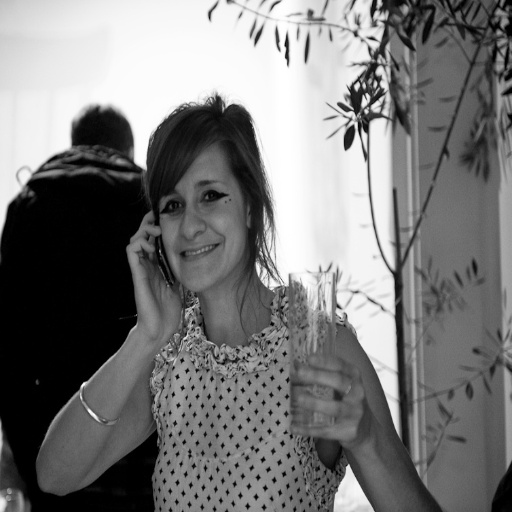hand: (112, 204, 171, 386), (288, 351, 376, 461)
